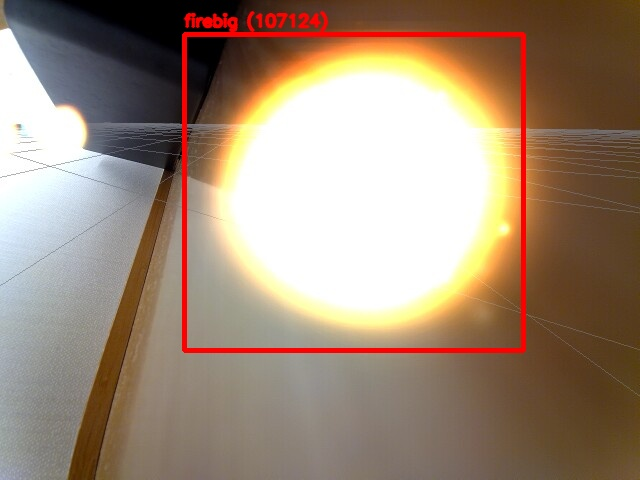firebig: (184, 34, 523, 350)
